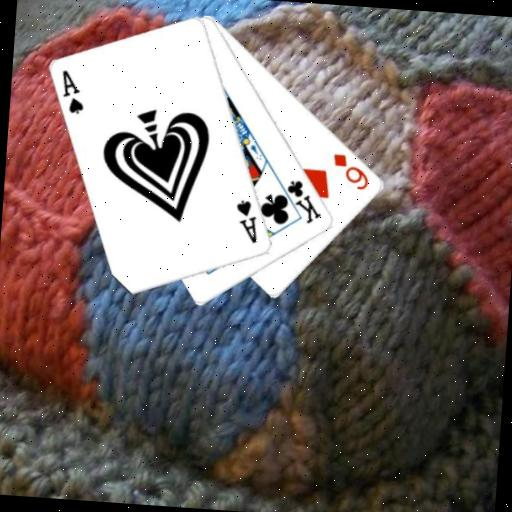6D: (328, 150, 373, 193)
AS: (56, 67, 88, 118), (232, 197, 263, 246)
KC: (274, 176, 326, 227)
